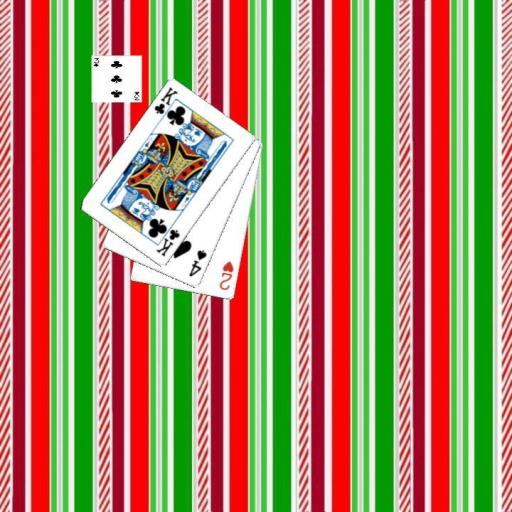2H: (217, 258, 236, 292)
4S: (187, 247, 209, 278)
KC: (151, 84, 179, 122), (153, 221, 181, 258)
